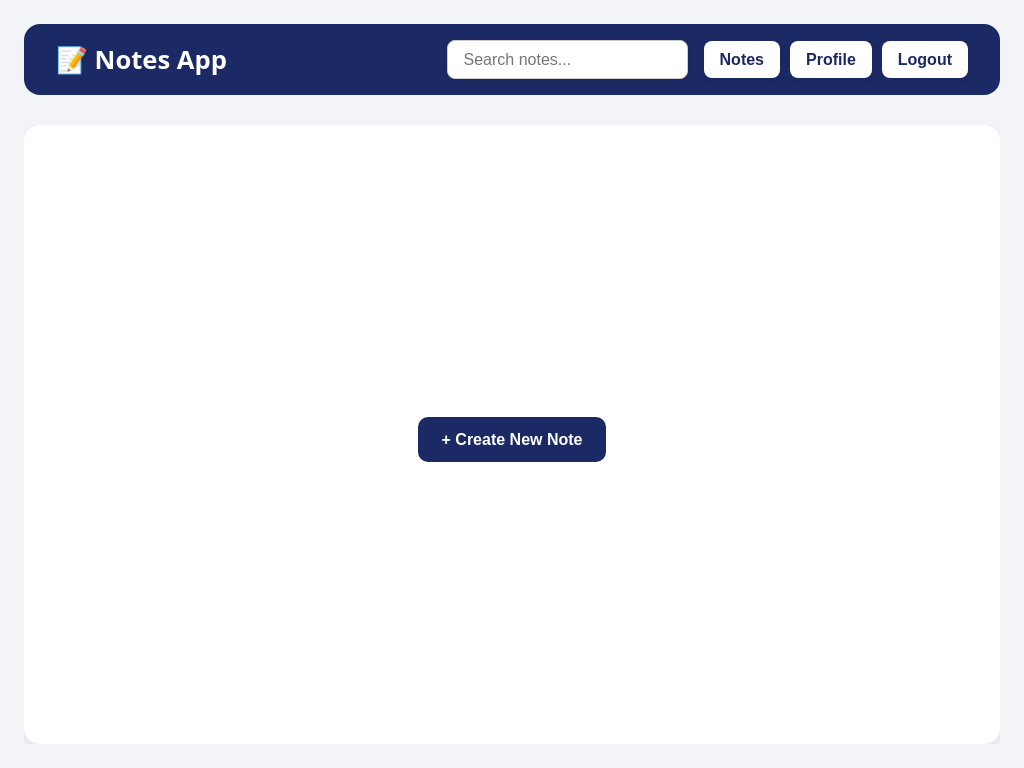
Test: Dashboard Component › selecting a saved note opens it in editor
The width and height of the screenshot is (1024, 768).
Click the button "Notes": (742, 60) 704,41 -> 780,78
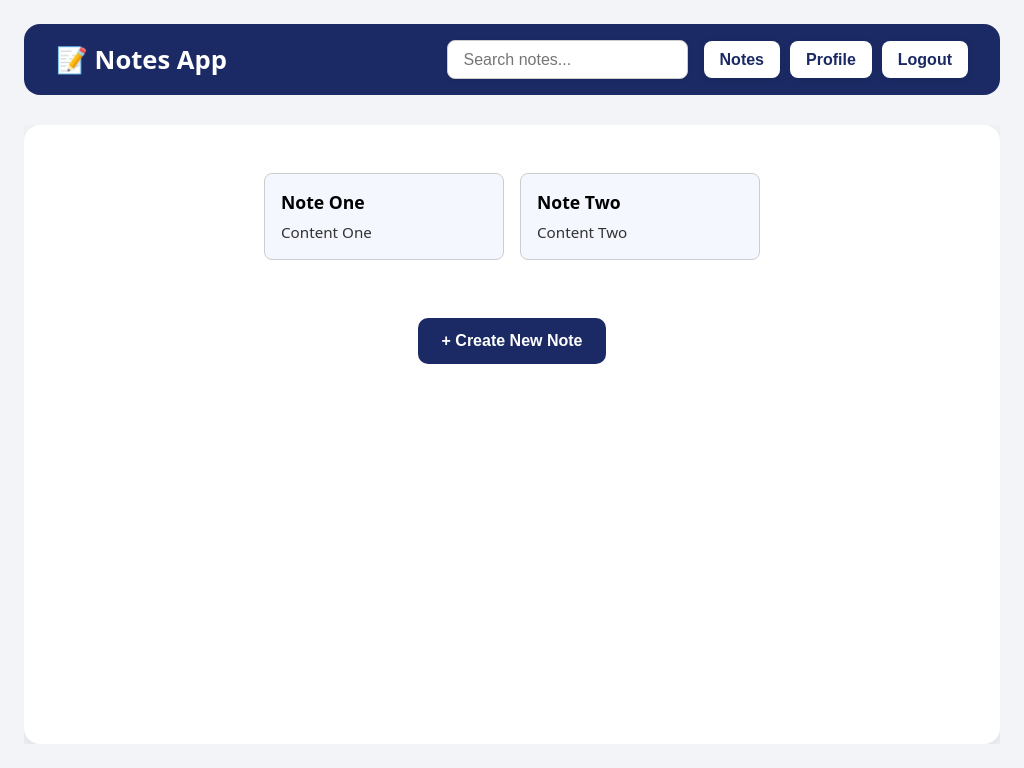
Click the heading "Note One": (323, 202) 281,190 -> 365,214
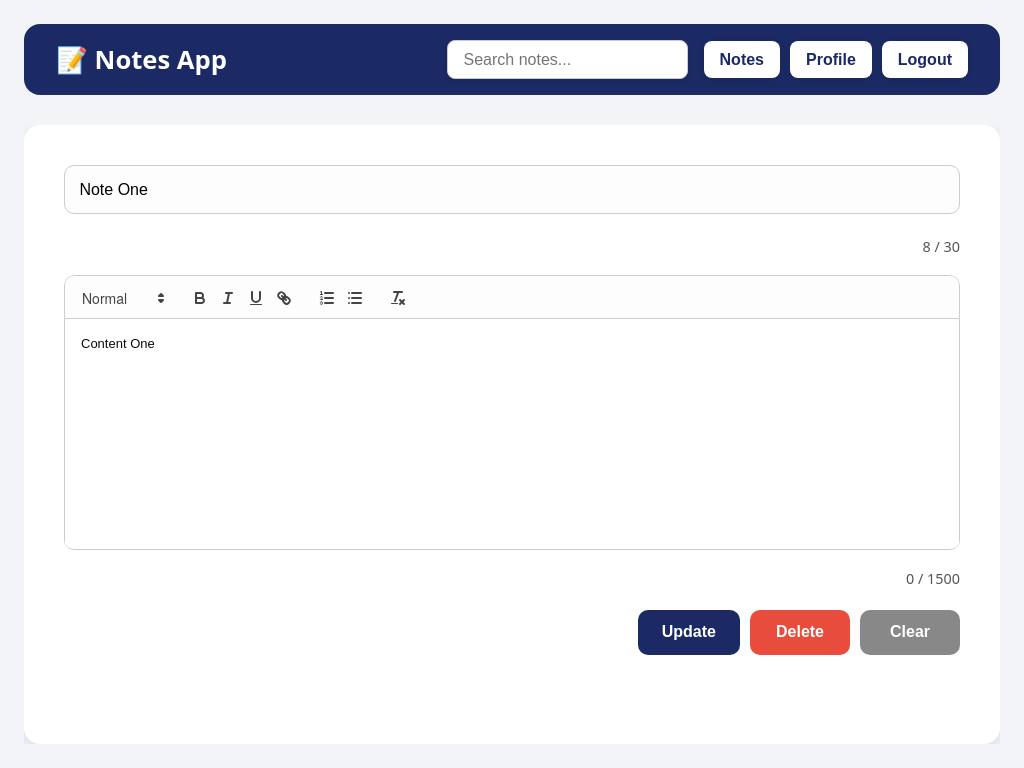
Expected: the field showing "Note One" is shown, 64,165 -> 960,214
